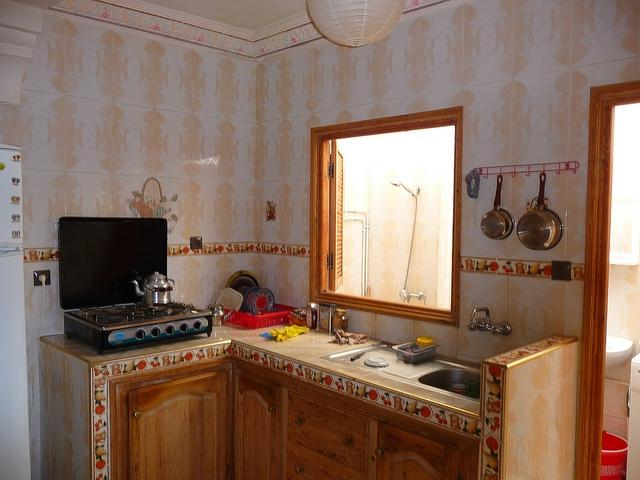cherry: (486, 417, 499, 423), (442, 412, 448, 424), (104, 364, 110, 376), (383, 395, 389, 405), (434, 412, 444, 418), (280, 245, 286, 254), (23, 250, 28, 260), (98, 418, 104, 426), (298, 367, 302, 376), (100, 367, 106, 373), (198, 350, 202, 359), (256, 244, 260, 252), (491, 426, 496, 432), (493, 474, 498, 479), (495, 423, 500, 428), (502, 360, 508, 364), (438, 418, 442, 424), (235, 346, 238, 354), (193, 248, 197, 254), (336, 386, 341, 390), (509, 268, 513, 273), (232, 346, 236, 351), (228, 246, 231, 252), (388, 400, 391, 406), (226, 246, 230, 250), (300, 372, 304, 376), (335, 380, 339, 384), (152, 364, 156, 368), (150, 361, 154, 365), (381, 396, 385, 400), (95, 422, 99, 426), (264, 357, 266, 363), (157, 362, 160, 366), (99, 472, 102, 476), (266, 360, 268, 365), (233, 350, 235, 354), (506, 269, 508, 272), (192, 249, 194, 251)
